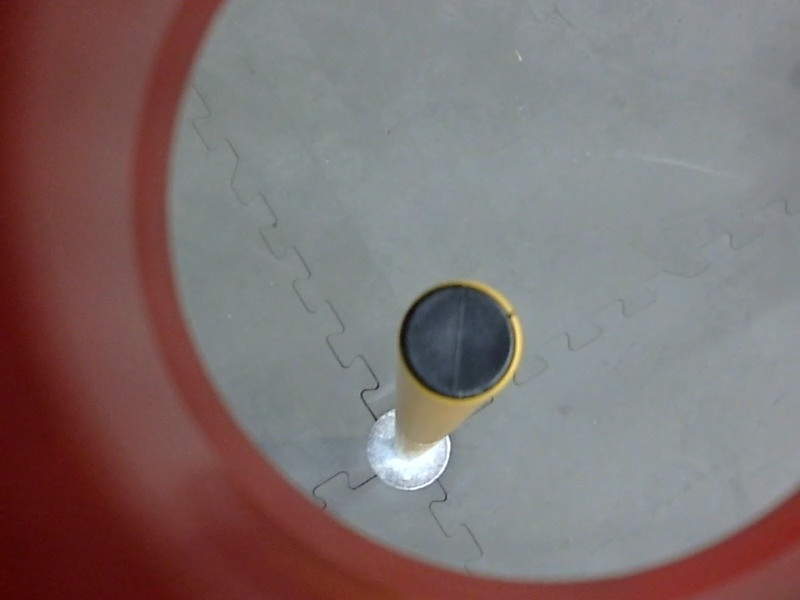tip: (391, 275, 530, 408)
